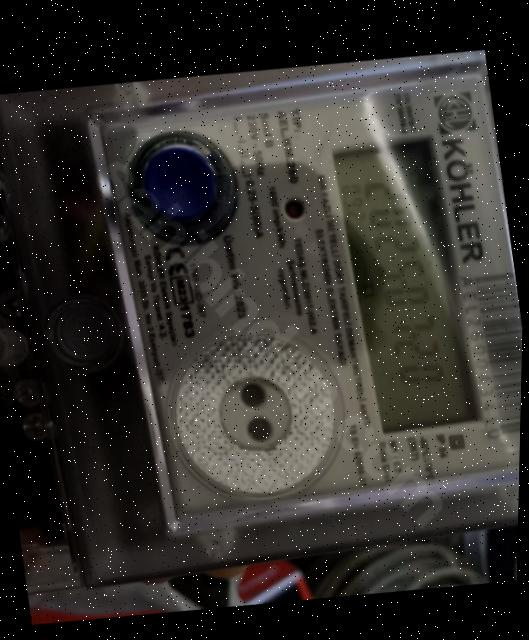electric-meter-detection: (0, 50, 522, 593)
